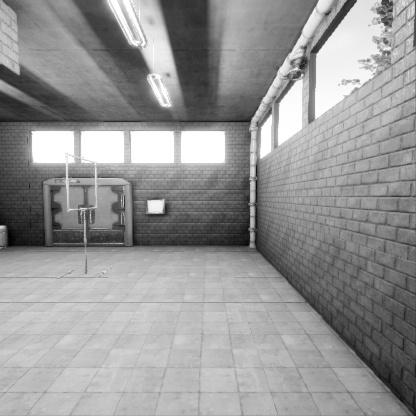gate: (65, 206, 97, 265)
